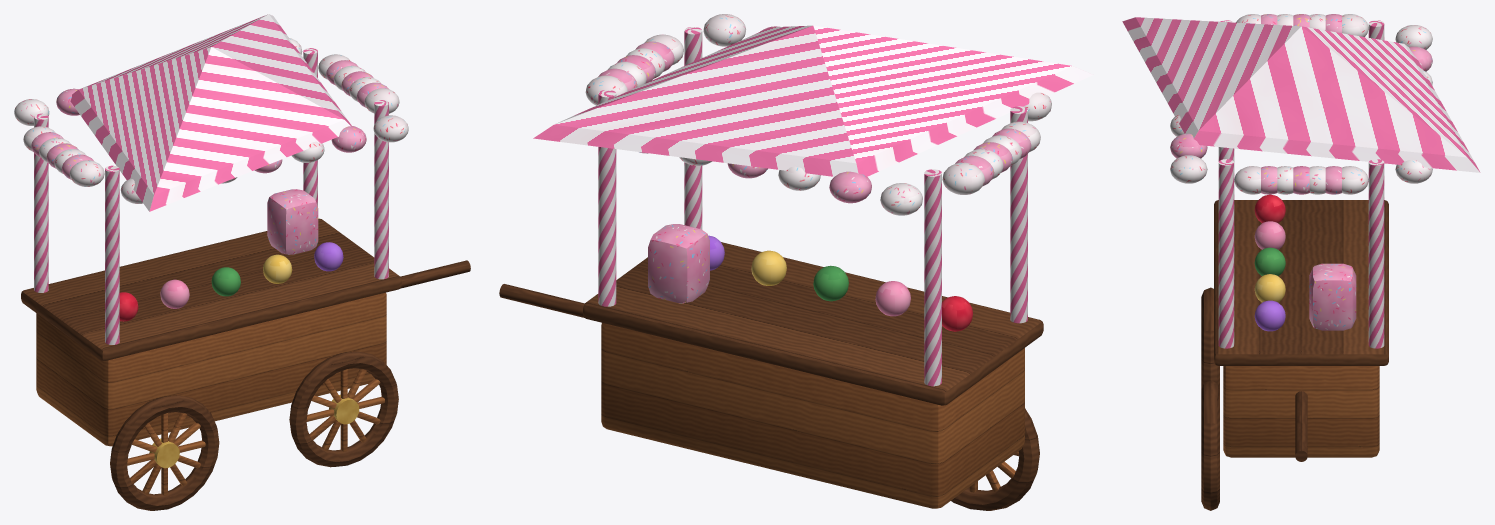
File: GIN_CandyCart.fbx
3 views of the same model, side by side, from view 1: azimuth 30°, elevation 25°; view 2: azimuth 150°, elevation 25°; view 3: azimuth 270°, elevation 25° (orthographic). The views are drawn at different scales.
Visible parts, largest first — view 1: GIN_CandyCart; view 2: GIN_CandyCart; view 3: GIN_CandyCart.
Part boxes in pixels (x1,y1,x2,y2): GIN_CandyCart: [14, 14, 470, 510]; GIN_CandyCart: [499, 14, 1092, 510]; GIN_CandyCart: [1122, 14, 1480, 510].
Bounding box in the file's own units: 3.27 × 3.05 × 2.29.
